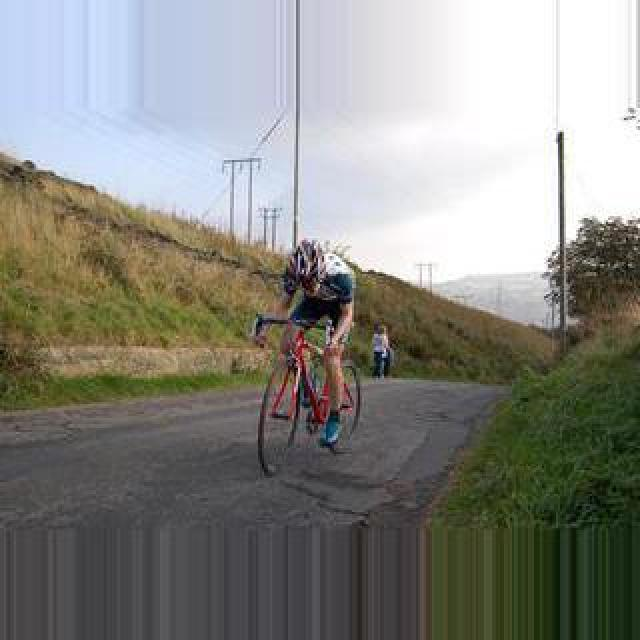MC-Bike: (260, 236, 356, 438), (372, 320, 392, 382)
Person: (254, 315, 362, 475)
